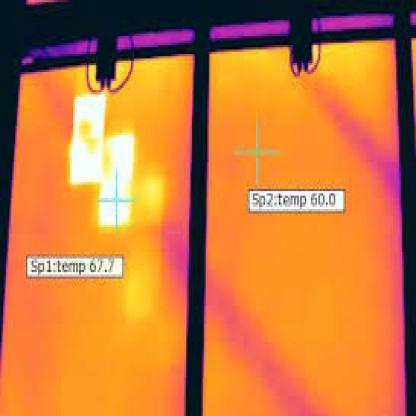Defects: (72, 99, 104, 137), (104, 182, 132, 220), (70, 149, 101, 182), (104, 135, 131, 164)
